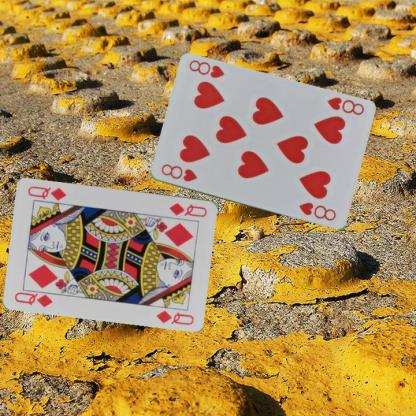8h: (324, 94, 365, 116), (158, 161, 198, 183)
Qd: (12, 286, 58, 308), (166, 200, 209, 218)
